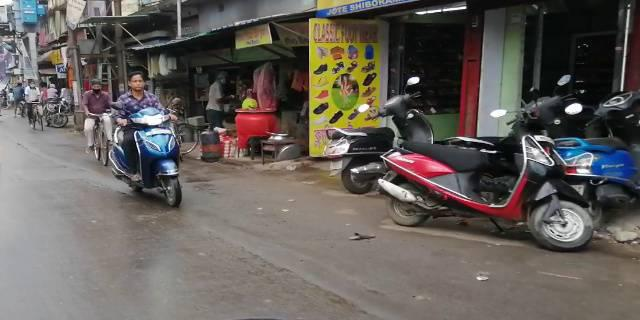Cycle: (80, 81, 114, 169)
Motorbike: (378, 128, 593, 239), (108, 72, 192, 205)
